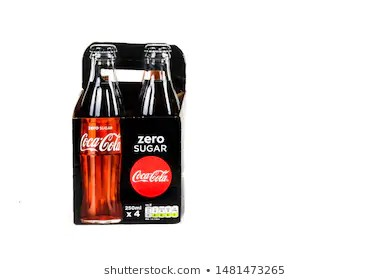coke-glass-bottle: (70, 40, 129, 226), (134, 43, 181, 222)
